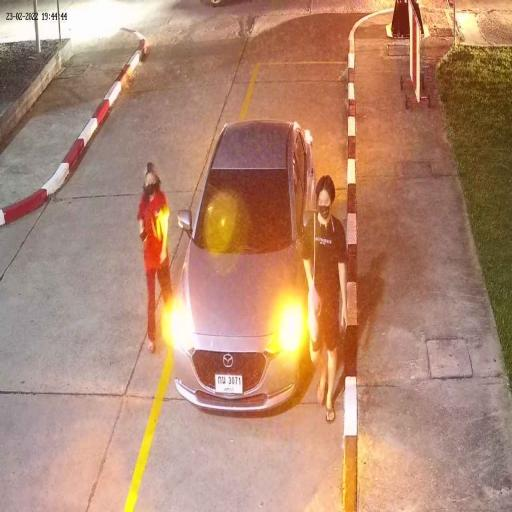car: (170, 116, 320, 421)
